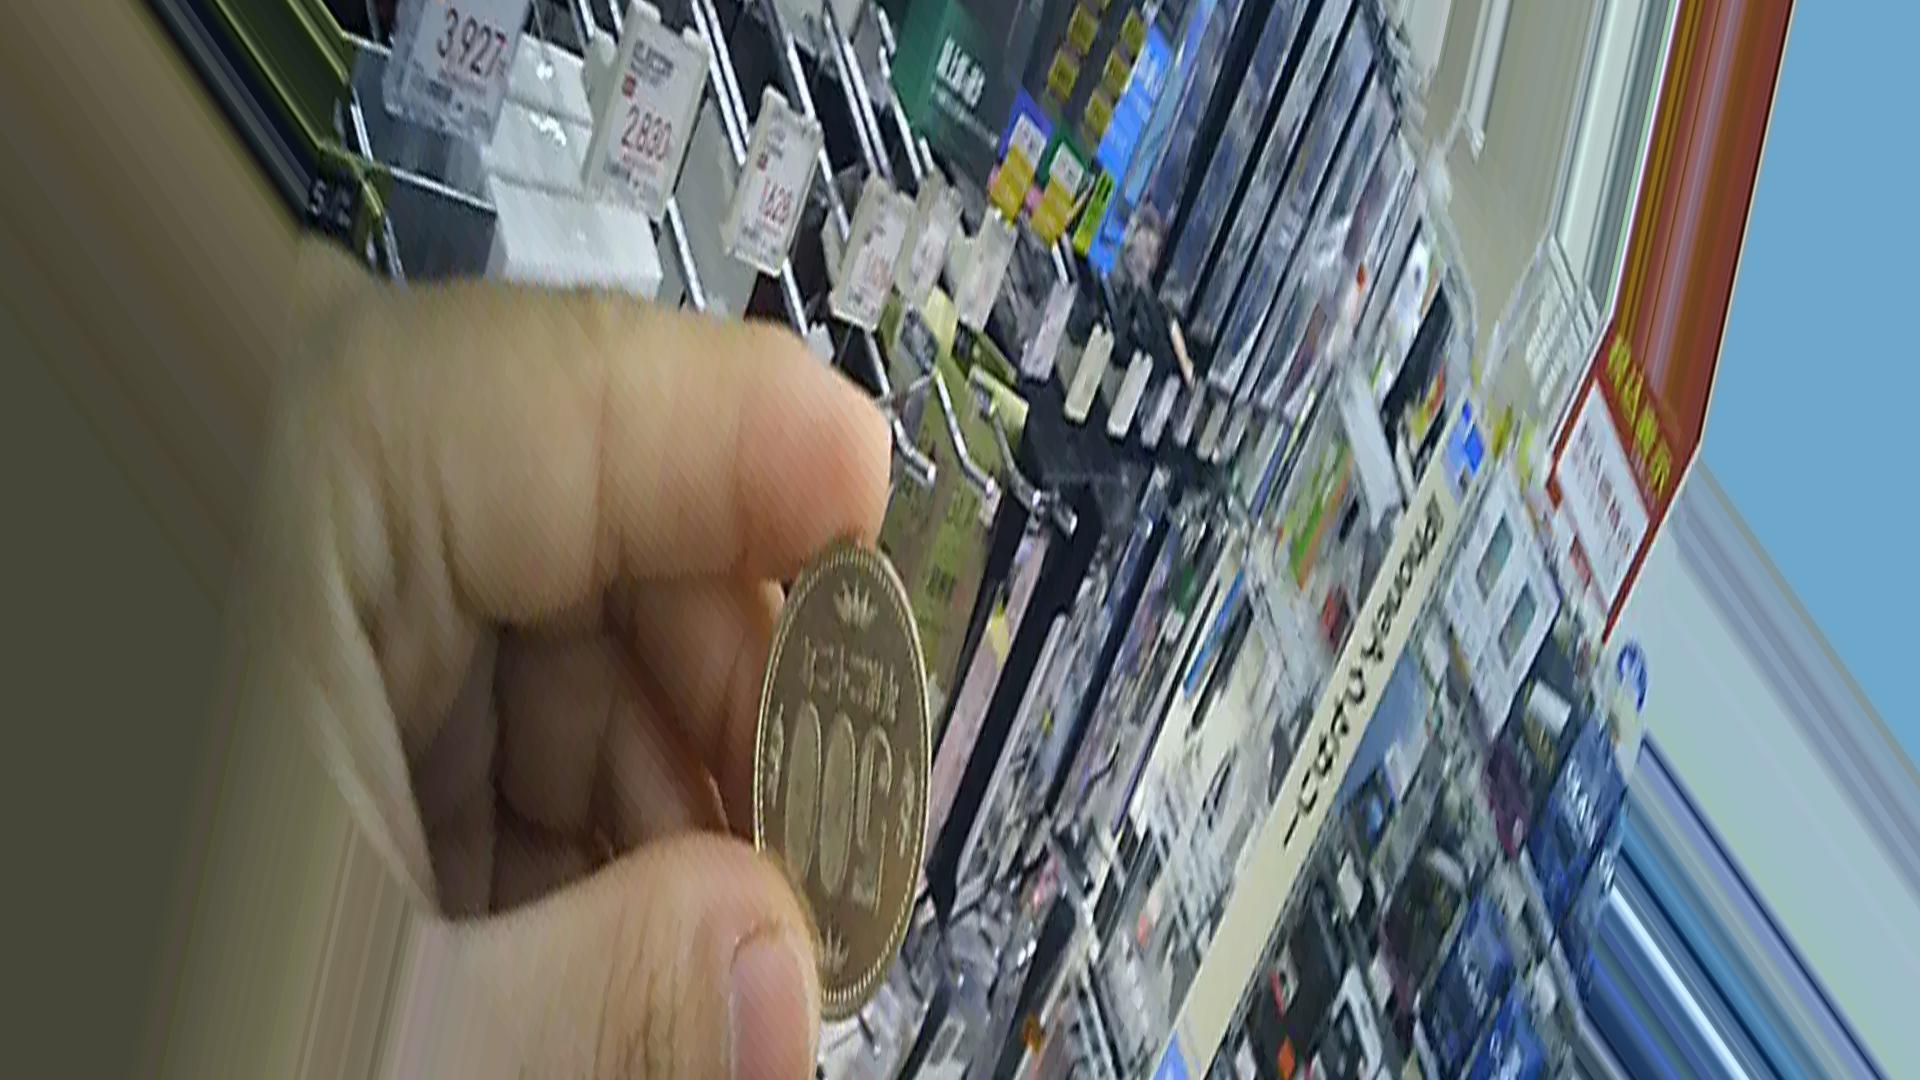500 Yen: (742, 525, 924, 1025)
